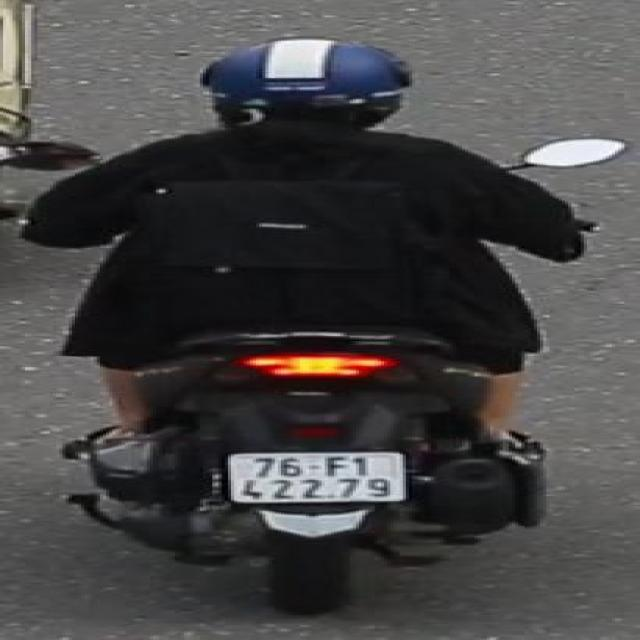LP: (225, 447, 412, 509)
helmet: (191, 33, 412, 138)
